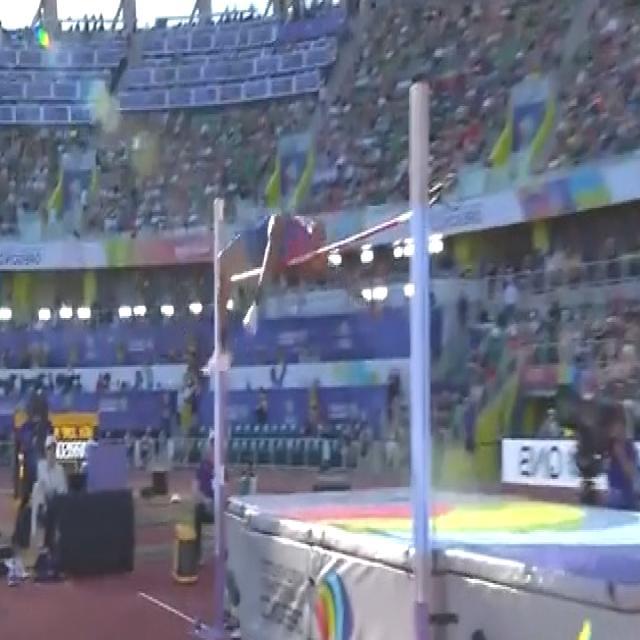land: (200, 210, 345, 373)
